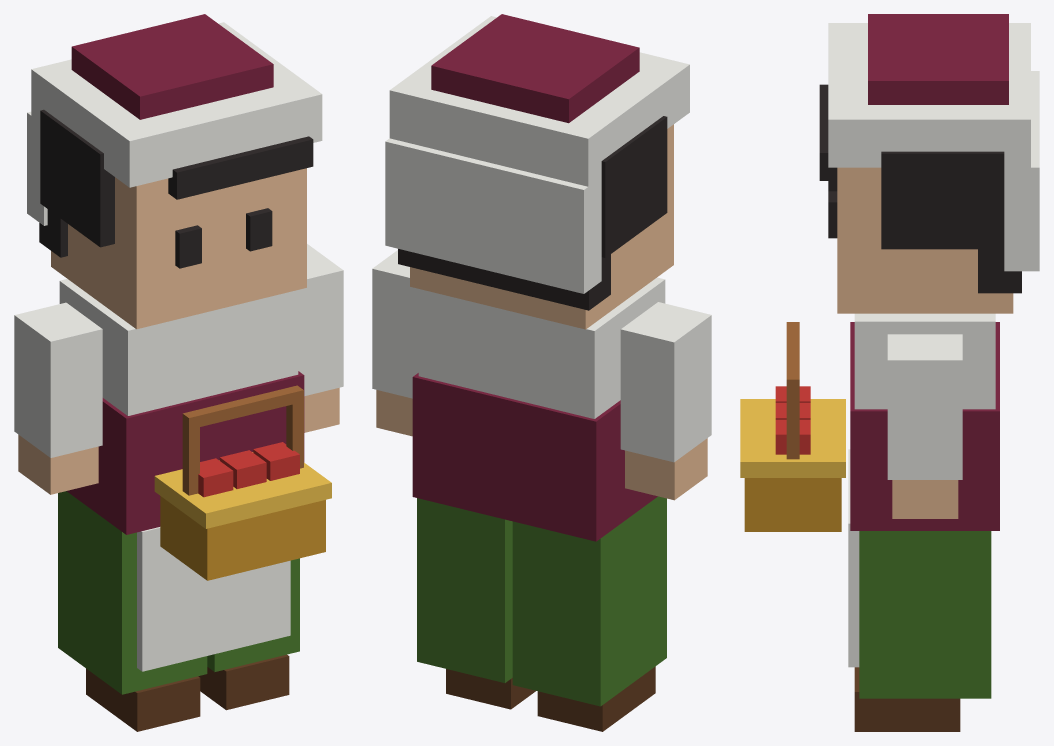
The model's file is H_MedPeasantBasket.fbx.
The picture shows the model from 3 angles, left to right: view 1: azimuth 30°, elevation 25°; view 2: azimuth 150°, elevation 25°; view 3: azimuth 270°, elevation 25°; orthographic projection. The views are drawn at different scales.
Parts seen in each view (by area): view 1: M_PeasantBasket; view 2: M_PeasantBasket; view 3: M_PeasantBasket.
Part boxes in pixels (<box>): M_PeasantBasket: <box>14,14,343,731</box>; M_PeasantBasket: <box>372,14,711,731</box>; M_PeasantBasket: <box>740,14,1039,731</box>.
Size of the model in its own units: 0.79 by 1.62 by 0.68.
1 material, 1 textured.
